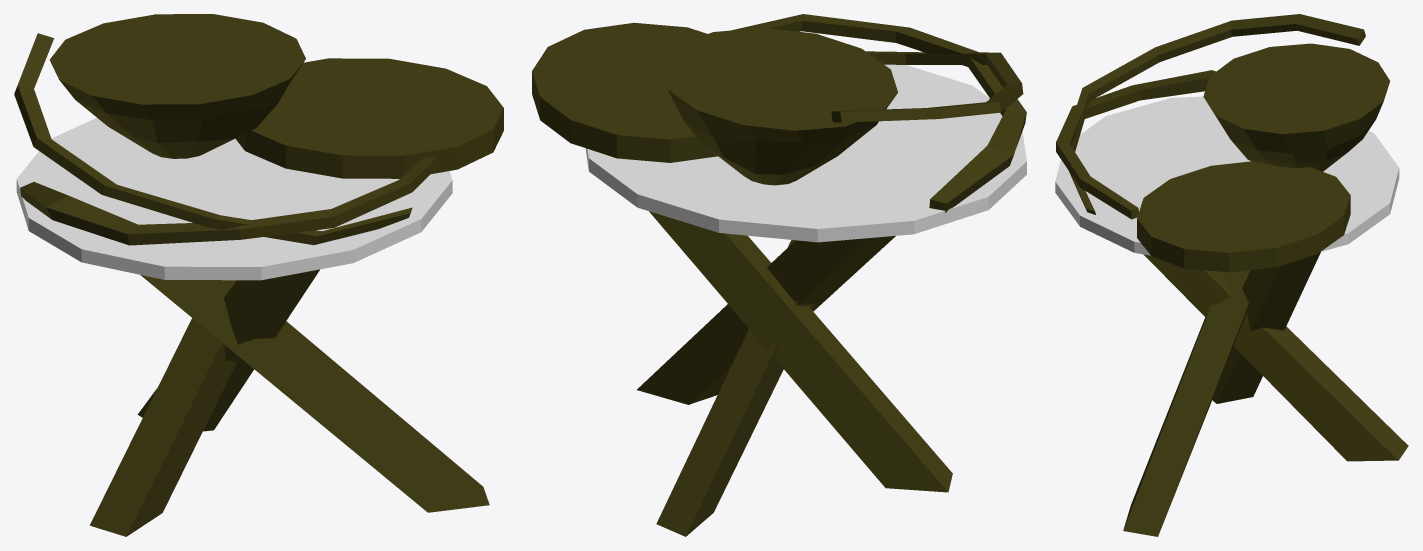
Rendered from perch.glb.
3 renders of one model, left to right at view 1: azimuth 30°, elevation 25°; view 2: azimuth 150°, elevation 25°; view 3: azimuth 270°, elevation 25°, orthographic. The views are drawn at different scales.
Parts seen in each view (by area): view 1: Cylinder.001, Cylinder.004, Cylinder.002, Cylinder.005, Cylinder.007, Cylinder.006; view 2: Cylinder.001, Cylinder.004, Cylinder.002, Cylinder.005, Cylinder.007, Cylinder.006; view 3: Cylinder.001, Cylinder.005, Cylinder.004, Cylinder.002, Cylinder.006, Cylinder.007.
Boxes of the visible parts, x1,y1,x2,y2 form: Cylinder.001: (90,269,489,536); Cylinder.004: (16,118,452,280); Cylinder.002: (49,14,305,158); Cylinder.005: (235,58,503,178); Cylinder.007: (20,157,437,245); Cylinder.006: (14,33,412,245); Cylinder.001: (637,211,952,536); Cylinder.004: (585,64,1026,242); Cylinder.002: (660,27,897,185); Cylinder.005: (532,22,717,162); Cylinder.007: (732,14,1026,212); Cylinder.006: (831,51,1023,122); Cylinder.001: (1123,252,1408,536); Cylinder.005: (1137,161,1350,272); Cylinder.004: (1055,96,1399,255); Cylinder.002: (1203,43,1389,171); Cylinder.006: (1069,14,1365,214); Cylinder.007: (1056,70,1215,219).
Size of the model in its own units: 15.97 by 14.99 by 12.83.
